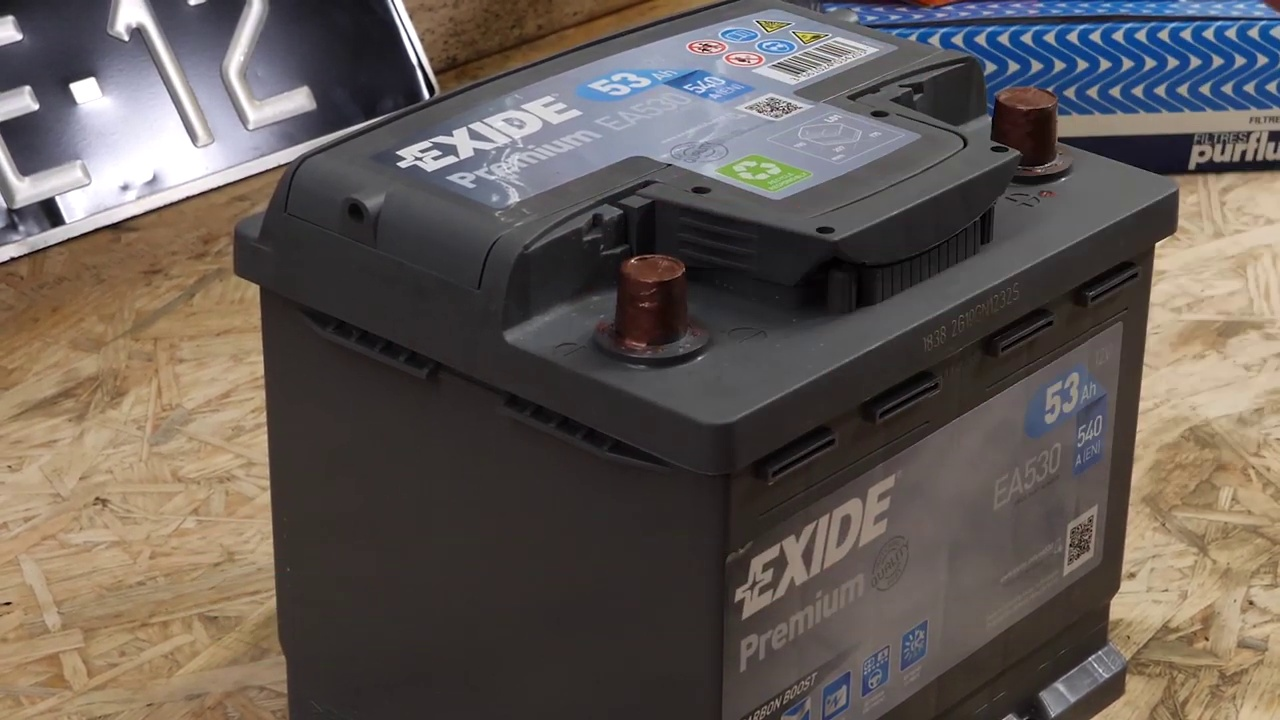battery: (294, 3, 1202, 386)
